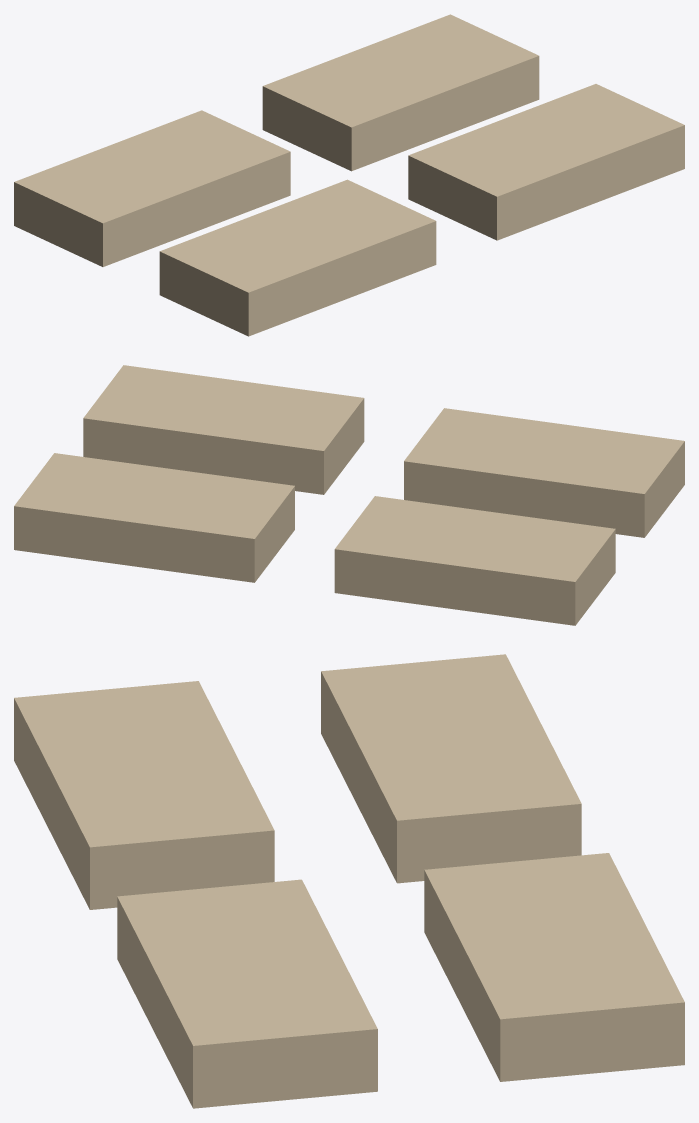
Rendered from -18_20-estimated-coarse.glb.
3 renders of one model, top to bottom at view 1: azimuth 30°, elevation 25°; view 2: azimuth 150°, elevation 25°; view 3: azimuth 270°, elevation 25°, orthographic. The views are drawn at different scales.
Bounding box in the file's own units: 161 × 12 × 116.
